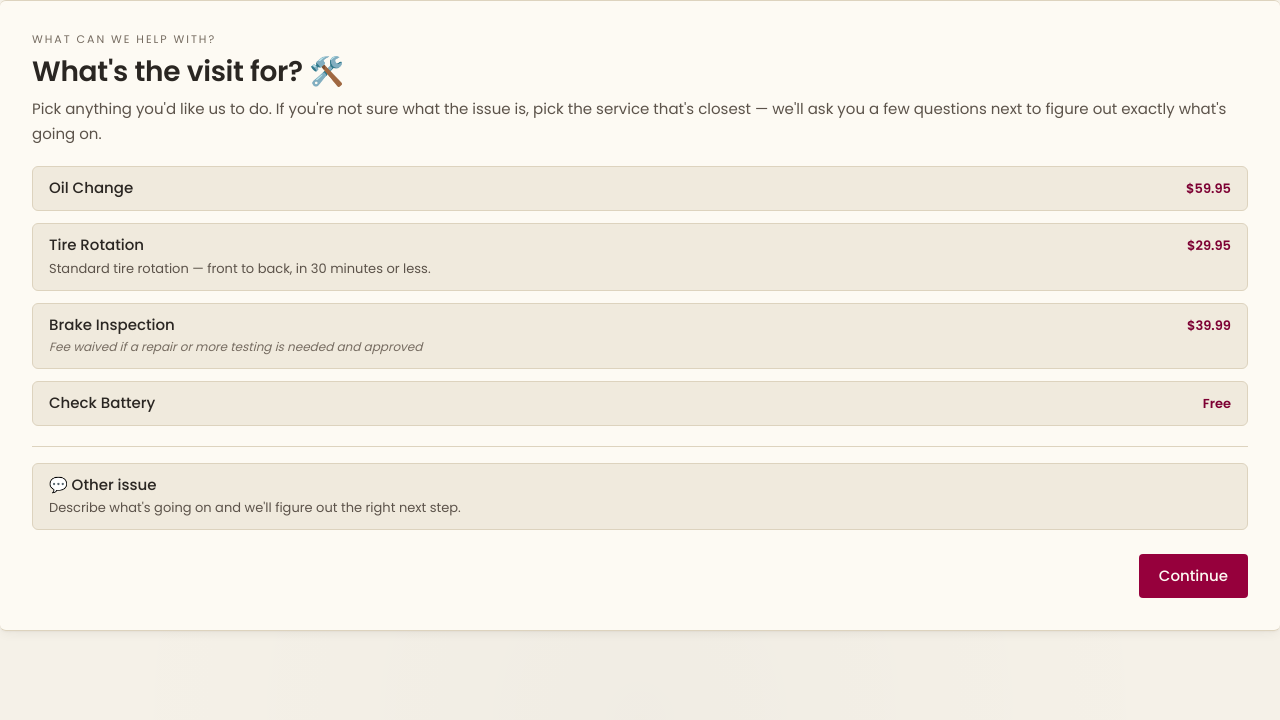
Test case: <ServiceAndConcernPicker /> › clears the alert when a chip is picked after an empty submit
Note: Empty submit → alert shown
Click the button "Continue" at (1193, 576), box [1139, 554, 1248, 598]
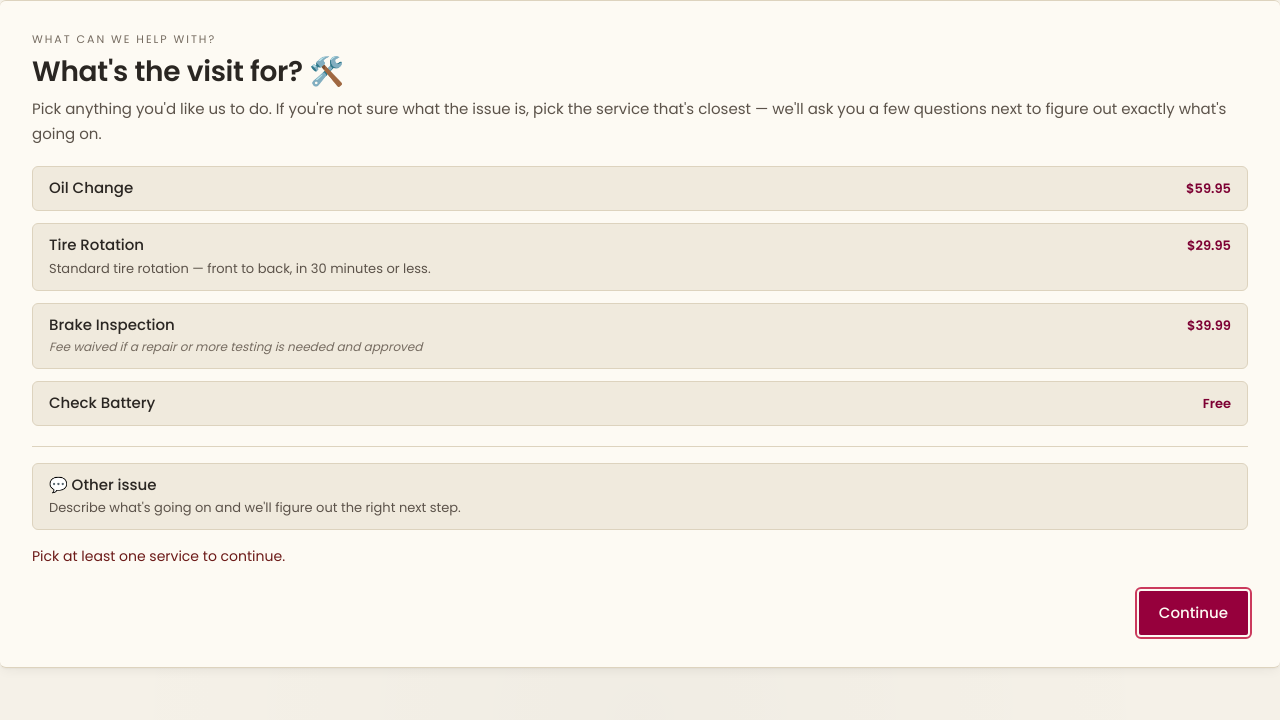
Check: the message "Pick at least one service to continue." is shown, box [32, 546, 285, 566]
Note: Pick a chip → alert clears
Click the button "Oil Change $59.95" at (91, 187), box [32, 166, 1248, 211]
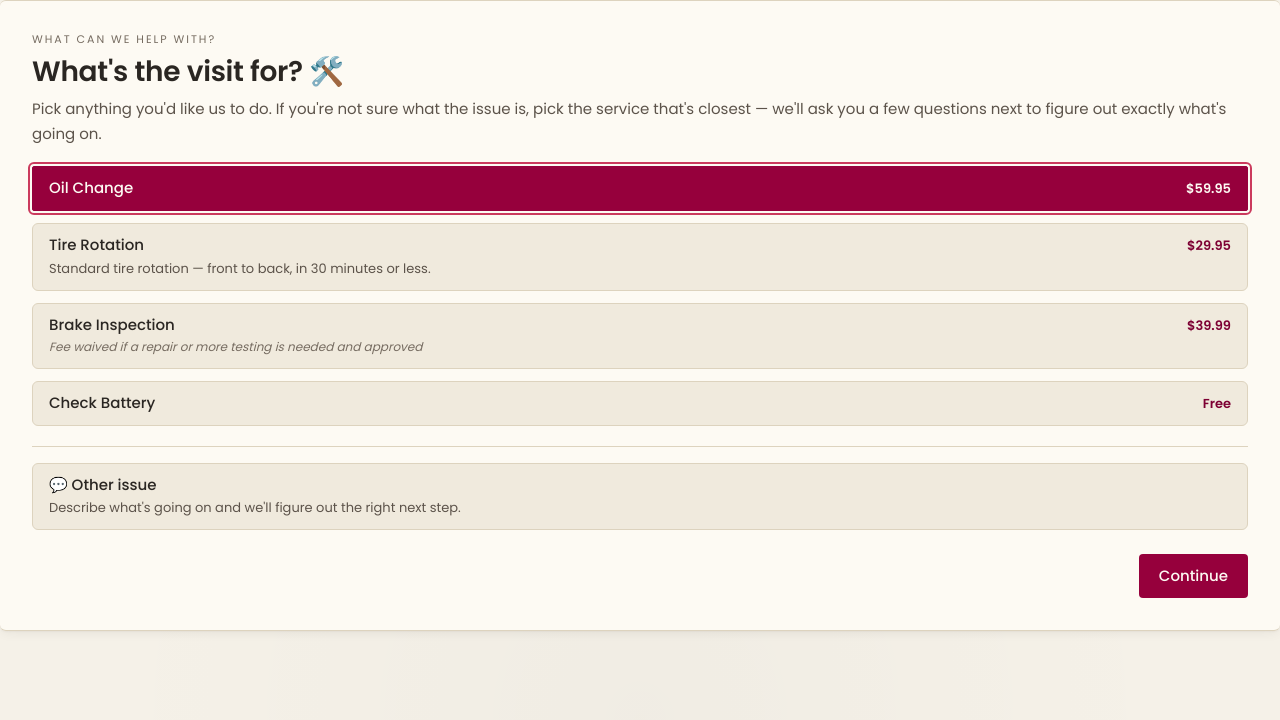
Check: the message "Pick at least one service to continue." is gone
